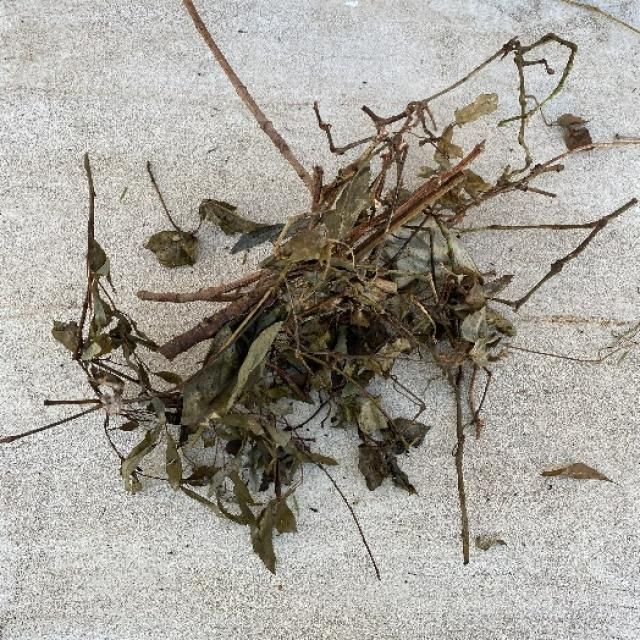organik: (86, 35, 593, 538)
